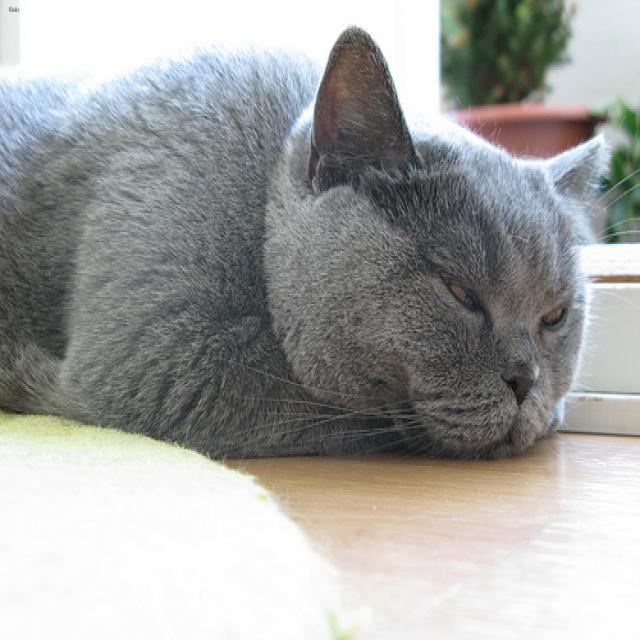British_Shorthair: (254, 21, 622, 476)
